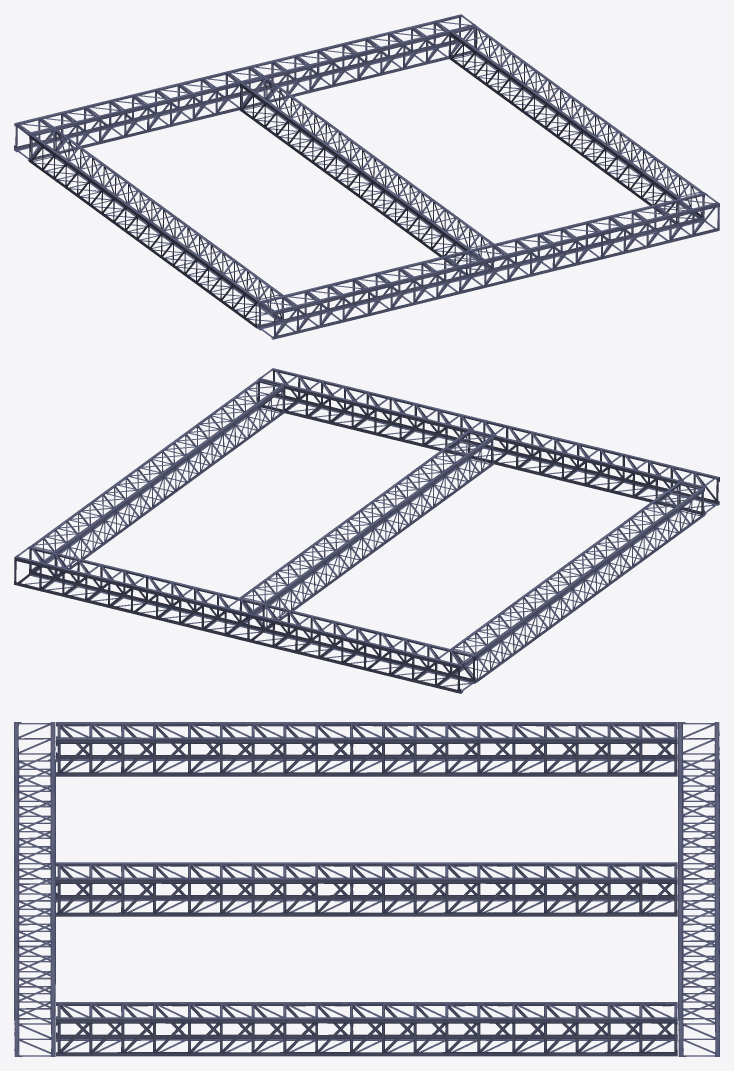
Rendered from top_scaffold.fbx.
The picture shows the model from 3 angles, top to bottom: view 1: azimuth 30°, elevation 25°; view 2: azimuth 150°, elevation 25°; view 3: azimuth 270°, elevation 25°; orthographic projection. The views are drawn at different scales.
Visible parts, largest first — view 1: scaffold; view 2: scaffold; view 3: scaffold.
Boxes of the visible parts, box(x1,y1,x2,y2) form: scaffold: box(14, 14, 719, 339); scaffold: box(14, 368, 719, 693); scaffold: box(14, 722, 719, 1056).
Bounding box in the file's own units: 9662 × 566 × 9679.
